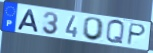3: (42, 11, 60, 36)
4: (65, 15, 79, 39)
A: (15, 8, 40, 33)
O: (81, 16, 106, 42)
P: (126, 22, 148, 46)
Q: (105, 19, 126, 46)
